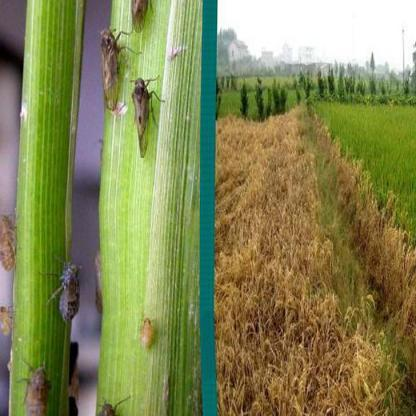brown-planthopper: (92, 24, 125, 109), (128, 78, 162, 158), (54, 259, 81, 324), (23, 362, 51, 416), (0, 210, 21, 273), (129, 0, 152, 31), (138, 314, 156, 348), (98, 396, 121, 416), (1, 304, 14, 338)
